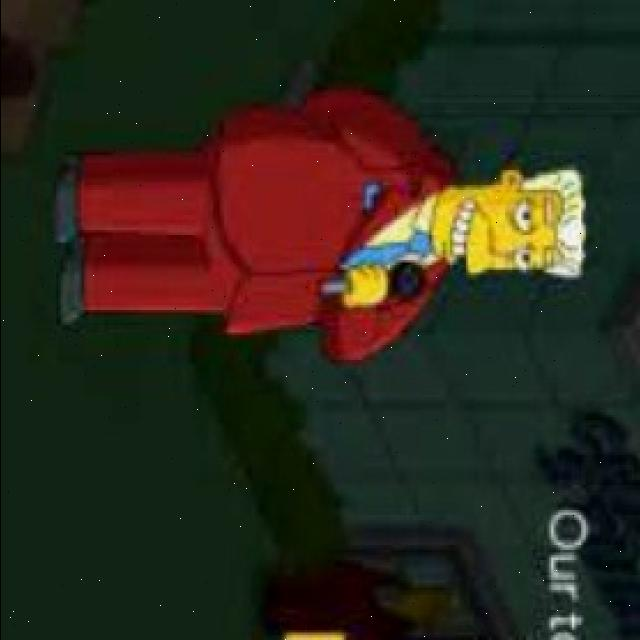Kent Brockman: (418, 164, 590, 286)
